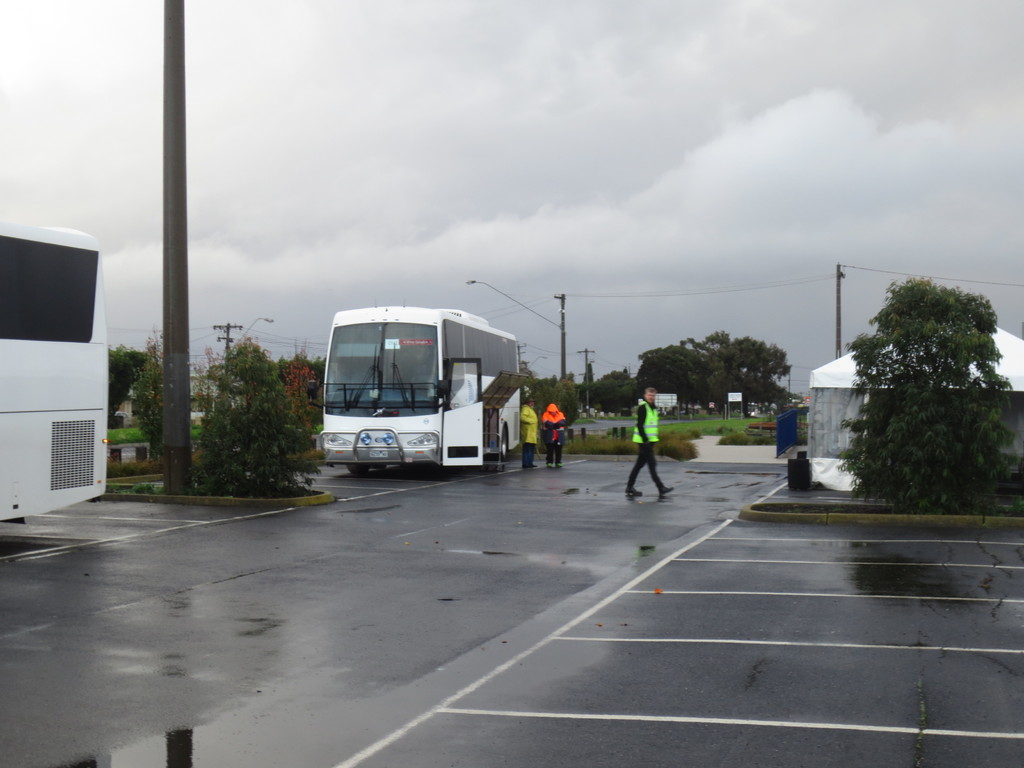Bus: (318, 302, 526, 474), (0, 219, 106, 523)
